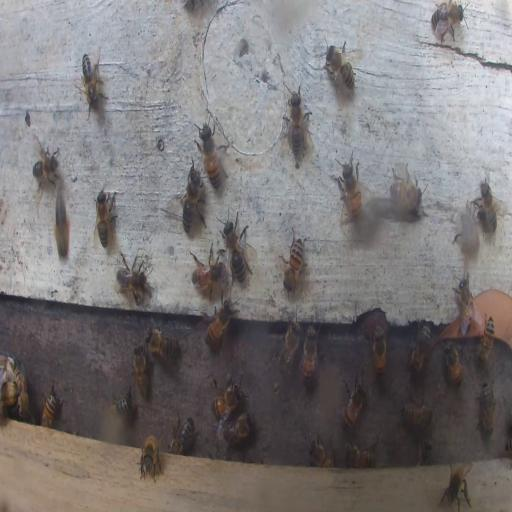nonpollenbee: (220, 207, 253, 280), (283, 84, 311, 162), (114, 252, 151, 308), (179, 166, 207, 234), (322, 40, 356, 95), (337, 152, 363, 223), (441, 460, 473, 512), (197, 121, 220, 189), (282, 232, 306, 296), (190, 248, 222, 296), (388, 172, 424, 214), (94, 190, 120, 248), (340, 380, 368, 433), (80, 52, 104, 110), (456, 206, 482, 258), (33, 141, 60, 191), (455, 274, 477, 335), (430, 2, 466, 39), (210, 381, 242, 422), (474, 178, 497, 233), (205, 302, 233, 346), (278, 320, 302, 371), (408, 321, 431, 371), (139, 434, 164, 480), (145, 327, 178, 361), (168, 416, 194, 454), (301, 326, 318, 384), (400, 399, 432, 429), (478, 381, 495, 437), (476, 314, 495, 363), (222, 413, 252, 443), (133, 342, 149, 398), (41, 383, 60, 429), (444, 343, 464, 386), (110, 382, 134, 415), (372, 323, 386, 377), (14, 368, 28, 418), (345, 444, 375, 467), (308, 439, 332, 466), (2, 373, 16, 417), (417, 438, 432, 466)
pollenbee: (52, 183, 72, 263)
